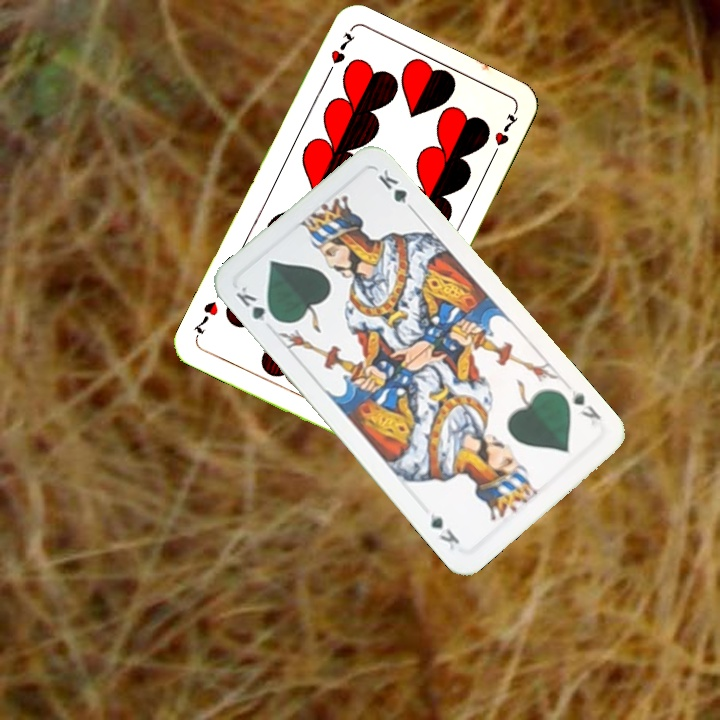GK: (231, 282, 281, 327), (566, 385, 604, 423)
H7: (321, 28, 357, 81)
